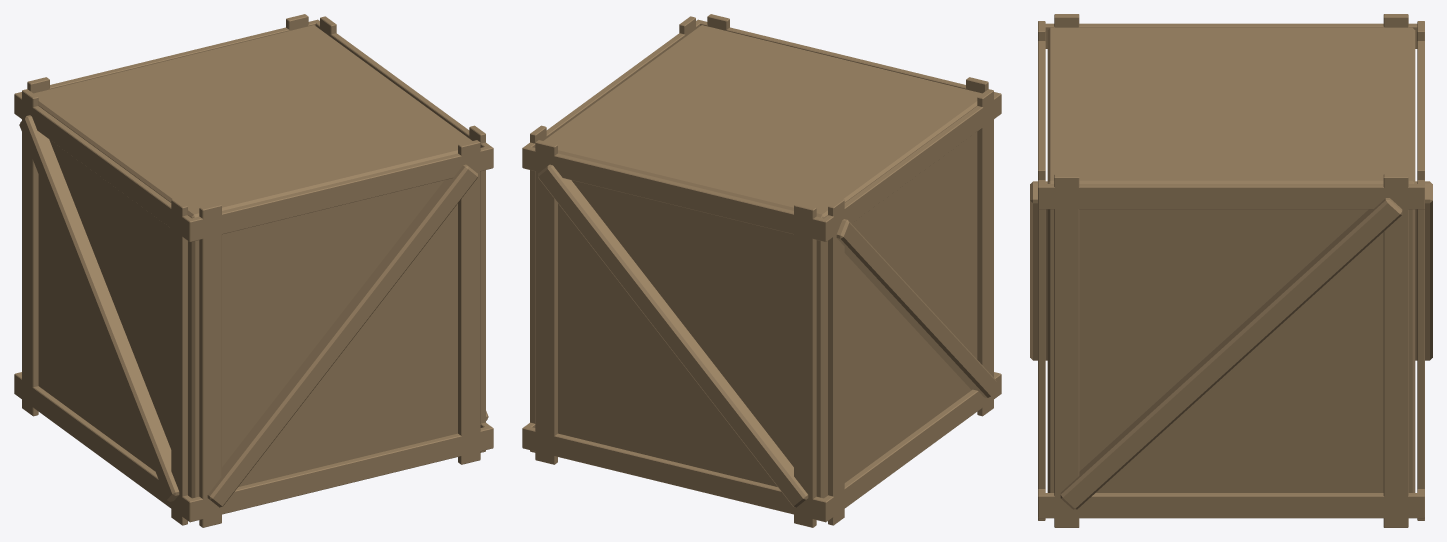
Rendered from crate.glb.
3 views of the same model, side by side, from view 1: azimuth 30°, elevation 25°; view 2: azimuth 150°, elevation 25°; view 3: azimuth 270°, elevation 25° (orthographic). The views are drawn at different scales.
Visible parts, largest first — view 1: crate; view 2: crate; view 3: crate.
Part boxes in pixels (x1,y1,x2,y2): crate: (14, 14, 493, 527); crate: (522, 14, 1001, 527); crate: (1030, 14, 1432, 527).
Bounding box in the file's own units: 2.08 × 2 × 2.08.
